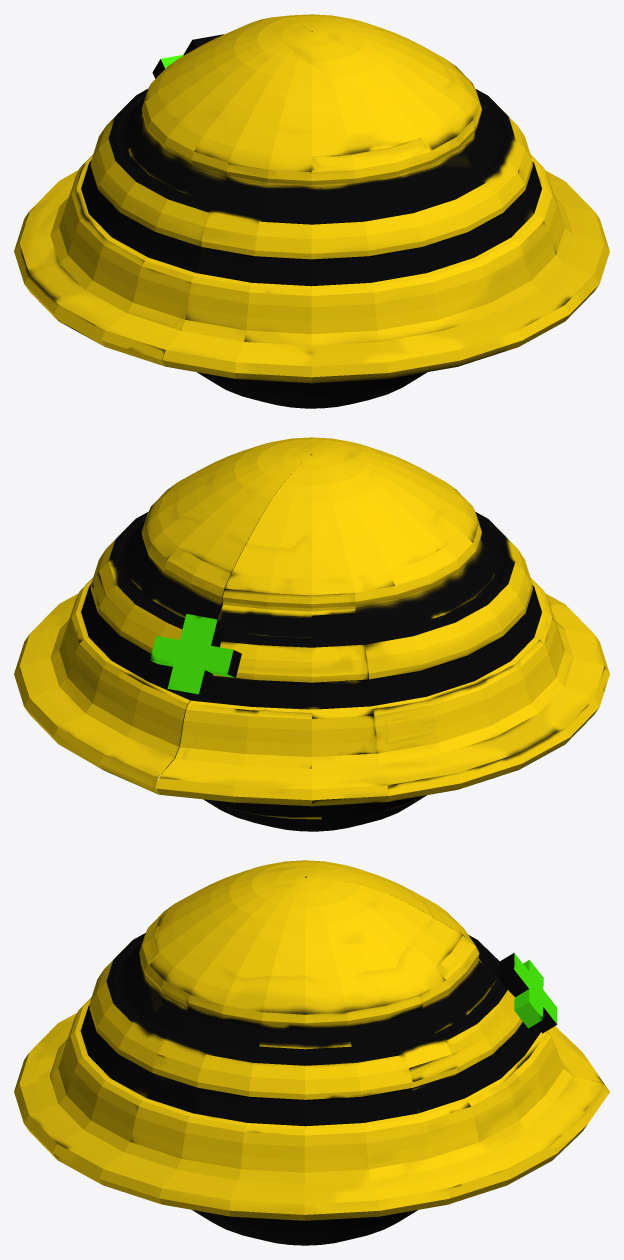
Rendered from Capacete.fbx.
3 views of the same model, one above another, from view 1: azimuth 30°, elevation 25°; view 2: azimuth 150°, elevation 25°; view 3: azimuth 270°, elevation 25° (orthographic). The views are drawn at different scales.
Parts seen in each view (by area): view 1: Plane; view 2: Plane; view 3: Plane.
Boxes of the visible parts, x1=… form: Plane: x1=14, y1=14, x2=609, y2=408; Plane: x1=14, y1=437, x2=609, y2=831; Plane: x1=14, y1=860, x2=609, y2=1245.
Size of the model in its own units: 452 by 300 by 463.
Materials: 1 (1 with a texture image).
